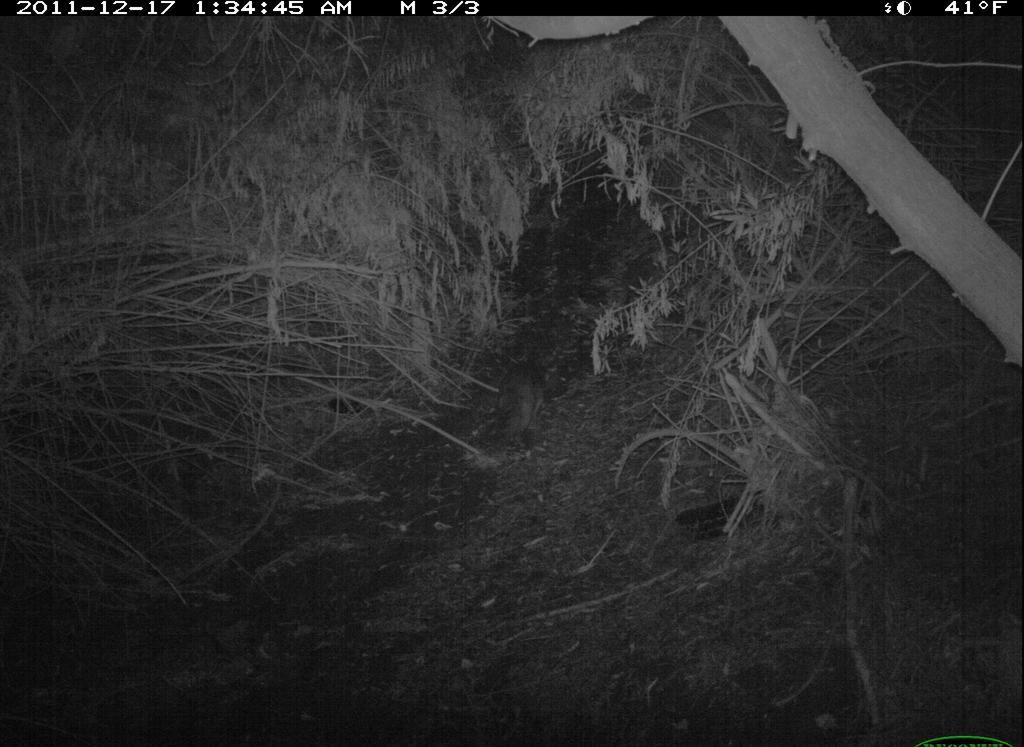raccoon: (475, 353, 568, 465)
